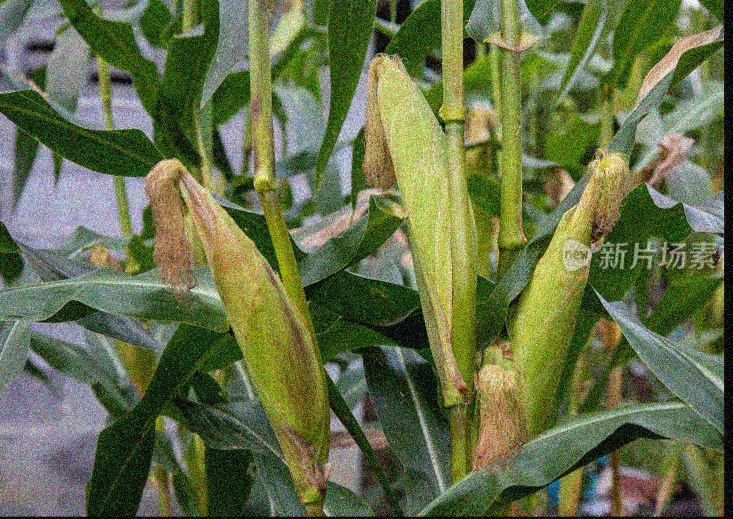corn_plant: (133, 153, 331, 493), (484, 142, 627, 466), (358, 57, 480, 404)
